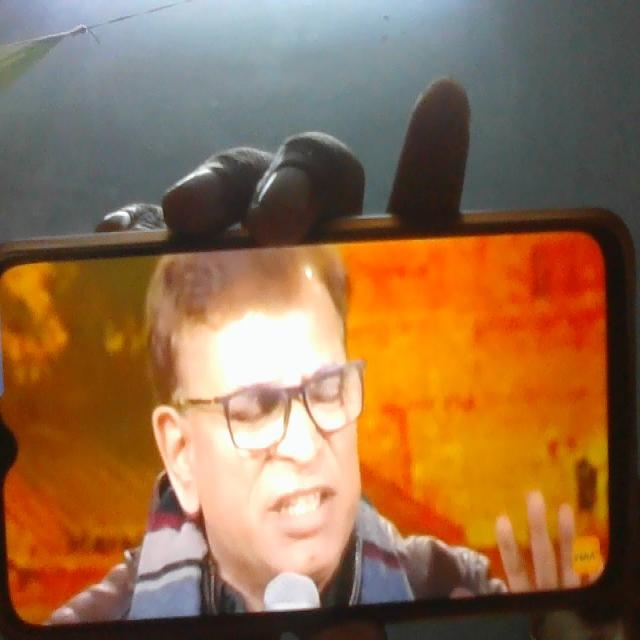fake: (161, 202, 377, 610)
